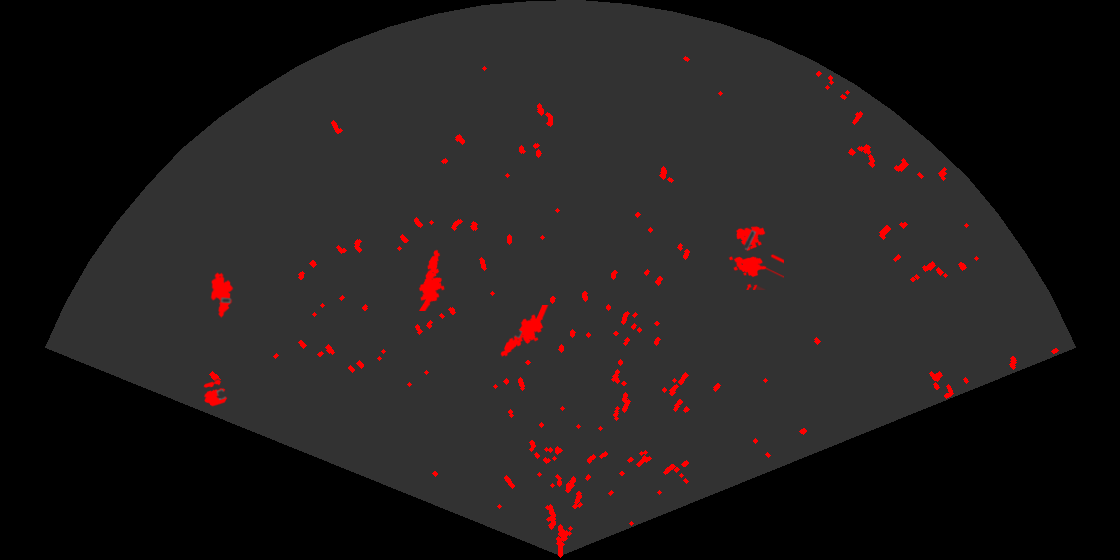AUV: (209, 271, 235, 320)
ball: (202, 378, 229, 408)
cage: (727, 224, 784, 290)
frogman: (499, 305, 550, 359), (417, 248, 446, 311)
